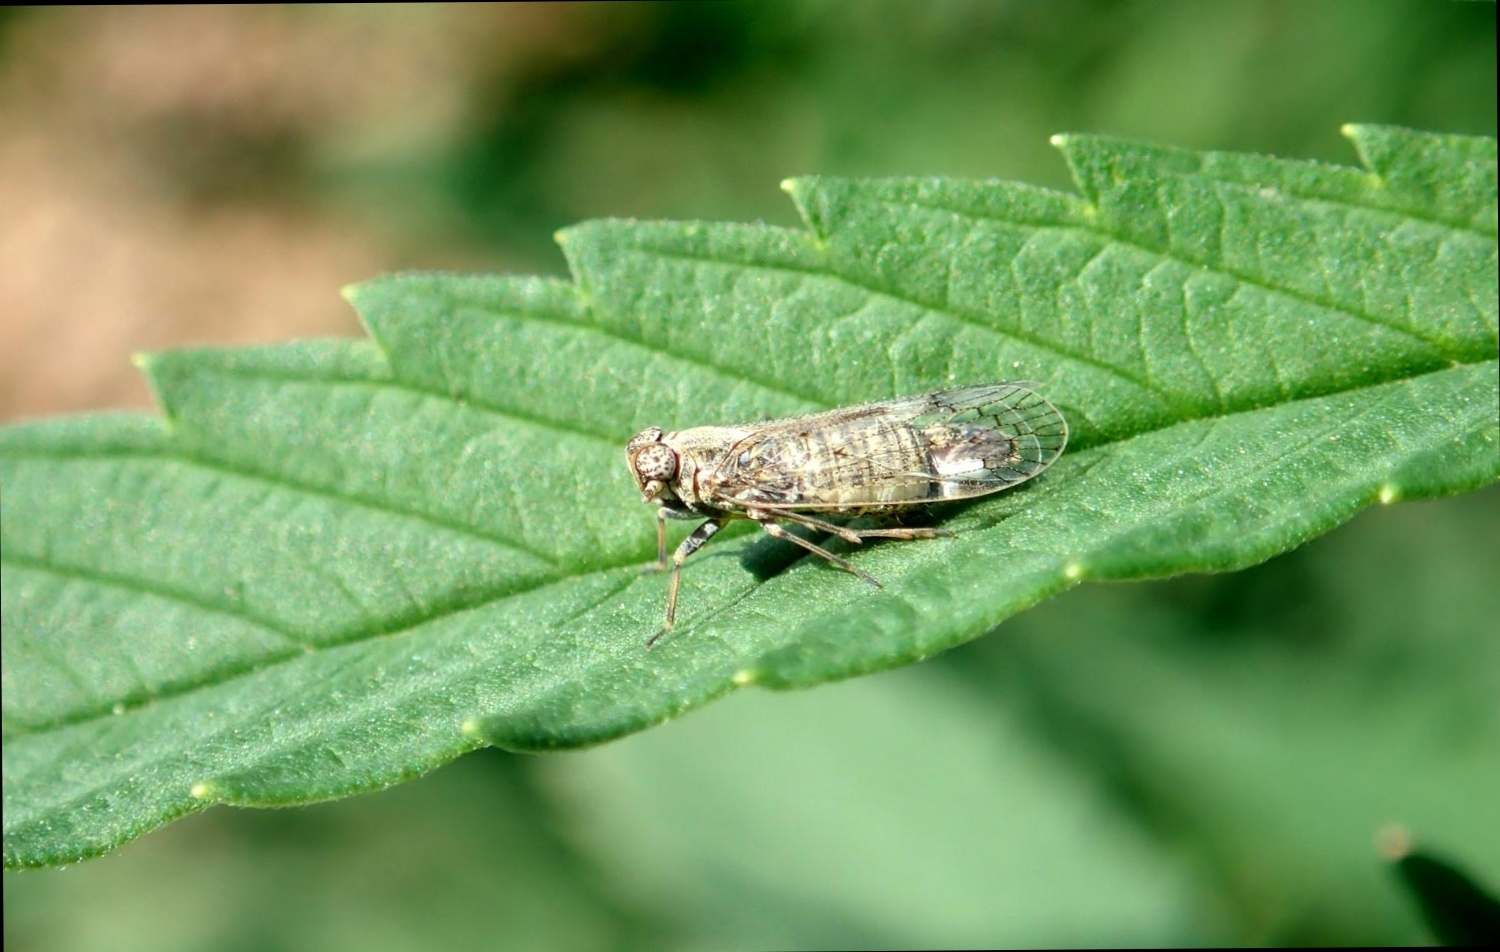Brown_hopper: (585, 333, 1082, 618)
